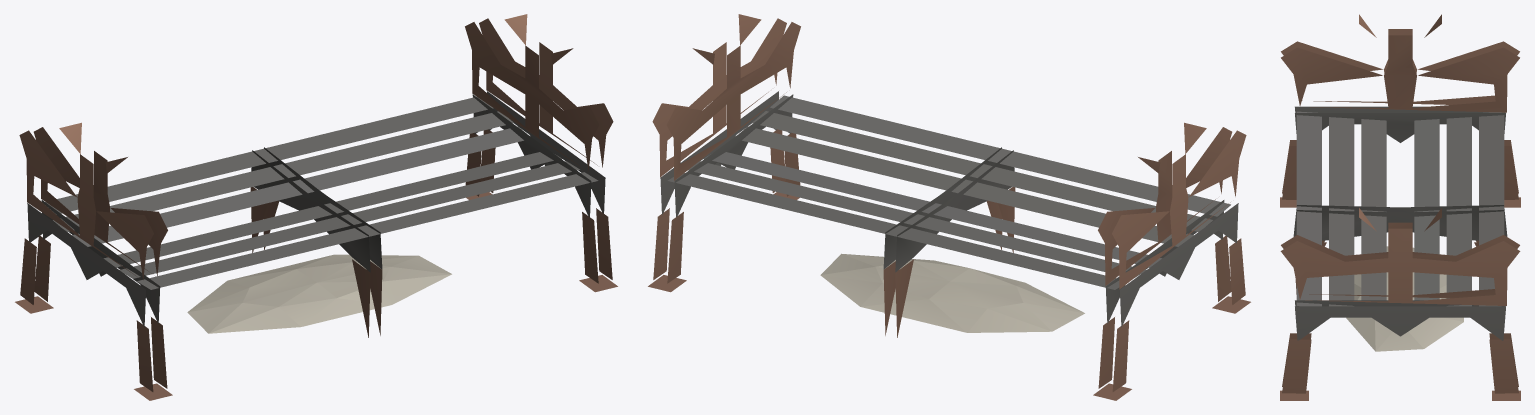
File: bench.lod.glb
3 views of the same model, side by side, from view 1: azimuth 30°, elevation 25°; view 2: azimuth 150°, elevation 25°; view 3: azimuth 270°, elevation 25° (orthographic). The views are drawn at different scales.
Parts seen in each view (by area): view 1: bench.001; view 2: bench.001; view 3: bench.001.
Boxes of the visible parts, x1,y1,x2,y2 form: bench.001: [15, 14, 617, 400]; bench.001: [648, 14, 1250, 400]; bench.001: [1280, 14, 1520, 400].
Size of the model in its own units: 2 by 0.8443 by 1.
